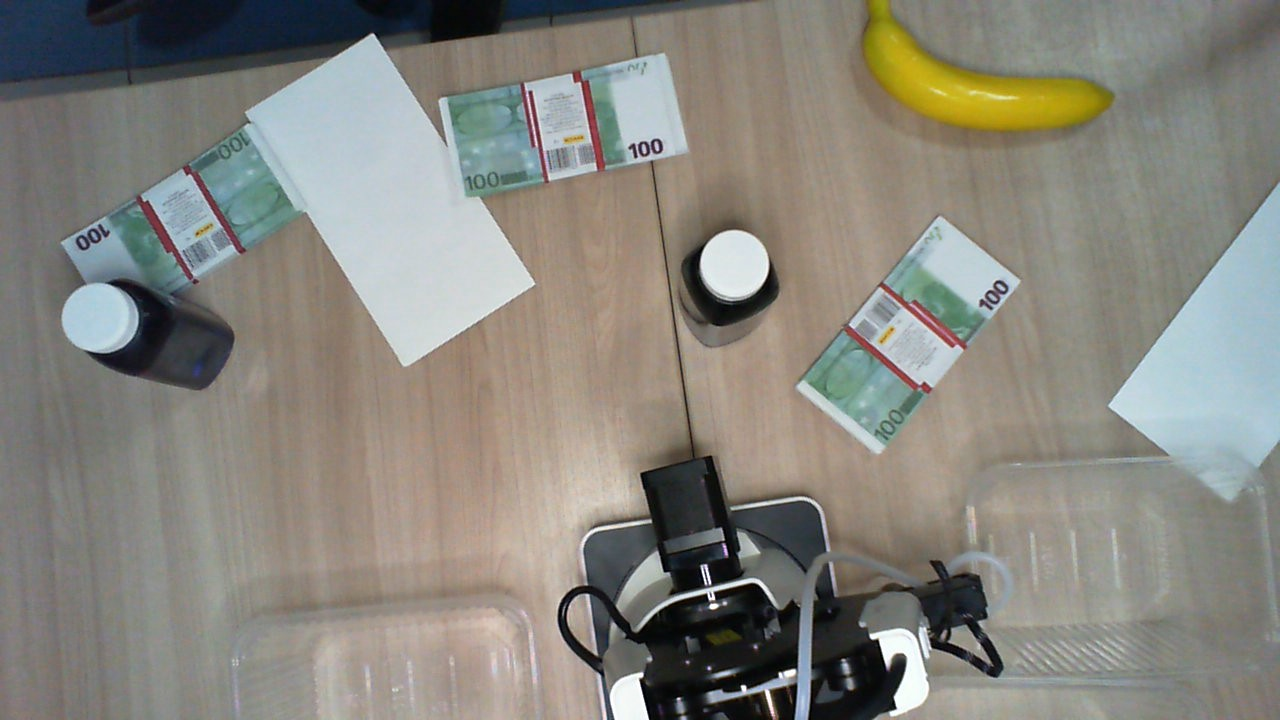banana: (861, 1, 1115, 132)
bottle: (682, 225, 783, 325), (63, 277, 156, 380)
convert: (245, 31, 538, 367), (1108, 181, 1279, 500)
money: (795, 214, 1021, 454), (61, 124, 308, 314), (439, 51, 689, 200)
